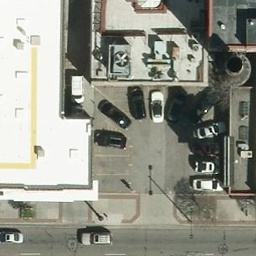car: (98, 99, 133, 128), (192, 123, 226, 141), (95, 131, 126, 150), (79, 229, 112, 246), (69, 73, 85, 107), (130, 89, 147, 121), (148, 90, 165, 122), (167, 95, 185, 122), (1, 227, 24, 245), (190, 158, 219, 172), (192, 176, 221, 190)
